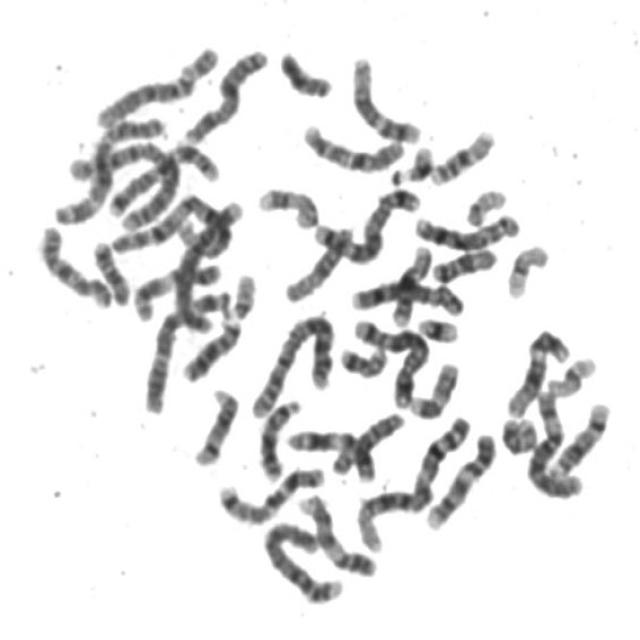A1: (352, 408, 477, 555), (105, 188, 245, 260)
A2: (245, 305, 340, 421), (64, 142, 178, 236)
A3: (55, 109, 166, 231), (138, 282, 236, 416)
B4: (170, 202, 248, 335), (258, 514, 346, 606)
B5: (310, 180, 424, 264), (348, 311, 433, 408)
C10: (33, 217, 115, 310), (296, 114, 410, 175)
C11: (128, 256, 225, 323), (281, 420, 379, 482)
C12: (346, 46, 426, 146), (502, 321, 574, 419)
C6: (90, 38, 224, 130), (522, 382, 586, 500)
C7: (103, 137, 229, 227), (214, 459, 328, 526)
C8: (346, 271, 468, 318), (409, 204, 524, 251)
C9: (420, 425, 501, 532), (294, 486, 382, 578)
D13: (176, 310, 245, 384), (253, 391, 306, 482)
D14: (545, 394, 614, 478), (187, 380, 243, 468)
D15: (279, 217, 359, 305), (326, 404, 409, 478)
E16: (424, 120, 500, 187), (386, 234, 439, 329)
E17: (404, 355, 463, 420), (253, 178, 322, 230)
E18: (87, 233, 133, 307), (427, 239, 501, 284)
F19: (502, 237, 554, 301), (543, 348, 600, 399)
F20: (333, 341, 392, 379), (496, 410, 542, 456)
G21: (386, 137, 438, 186), (412, 308, 463, 345)
G22: (459, 180, 512, 228), (226, 264, 260, 320)
X: (178, 39, 272, 146)
Y: (274, 41, 336, 100)
